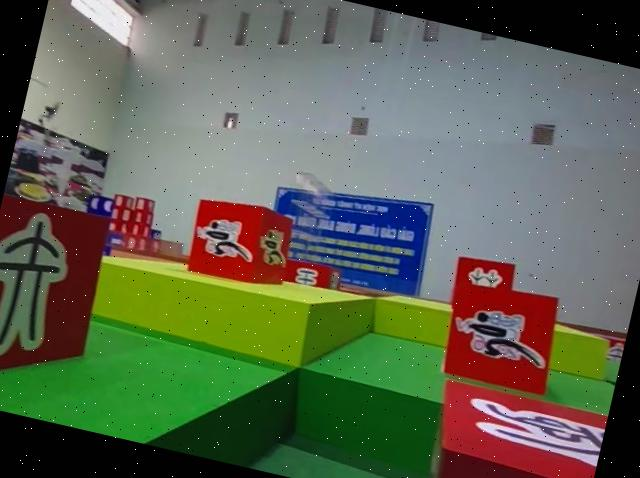R1: (434, 272, 570, 399), (180, 188, 299, 294)
R2 Fake: (0, 188, 116, 418), (414, 373, 608, 478)
